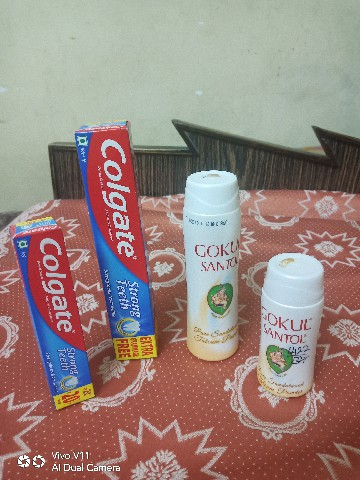colgatetoothpaste big: (75, 108, 178, 364)
colgatetoothpaste small: (5, 216, 100, 418)
gokulsantol big: (175, 164, 254, 366)
gokulsantol small: (254, 250, 331, 404)
